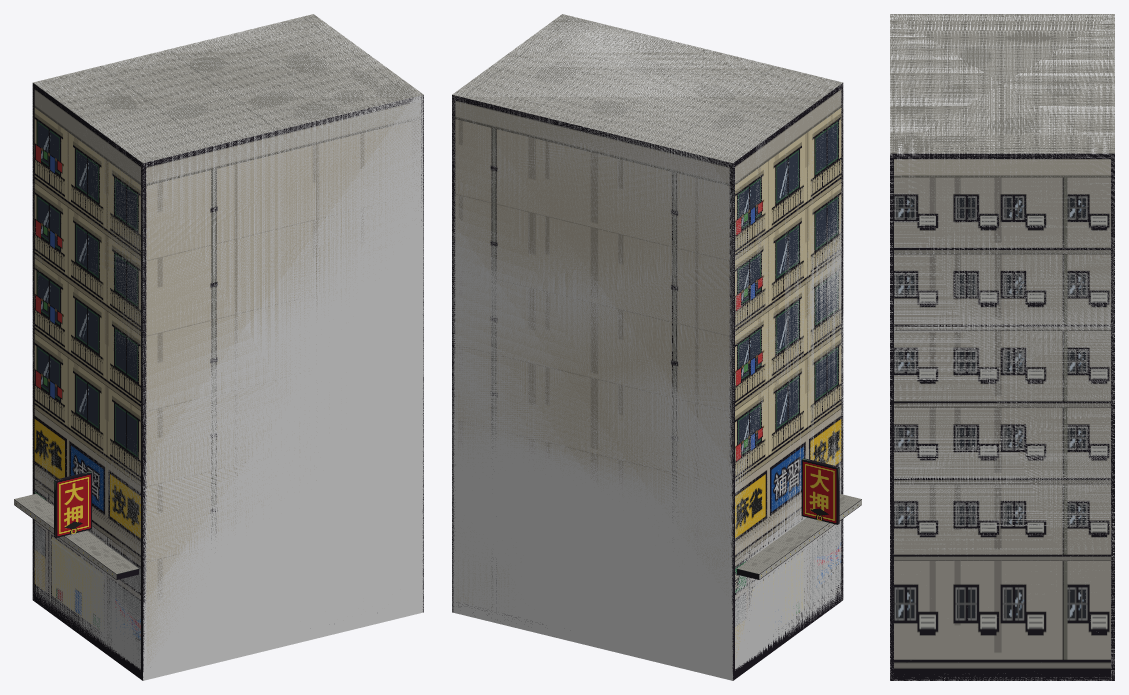
3 views of the same model, side by side, from view 1: azimuth 30°, elevation 25°; view 2: azimuth 150°, elevation 25°; view 3: azimuth 270°, elevation 25° (orthographic).
Visible parts, largest first — view 1: COL_19D-W17_0, 19D-W17; view 2: COL_19D-W17_0, 19D-W17; view 3: 19D-W17, COL_19D-W17_0.
Boxes of the visible parts, left/top/right/bottom form: COL_19D-W17_0: left=32, top=14, right=423, bottom=680; 19D-W17: left=14, top=14, right=423, bottom=680; COL_19D-W17_0: left=452, top=14, right=843, bottom=680; 19D-W17: left=452, top=14, right=861, bottom=680; 19D-W17: left=890, top=14, right=1114, bottom=680; COL_19D-W17_0: left=890, top=14, right=1114, bottom=680.
Bounding box in the file's own units: 14.35 × 22 × 8.5.
1 material, 1 textured.
